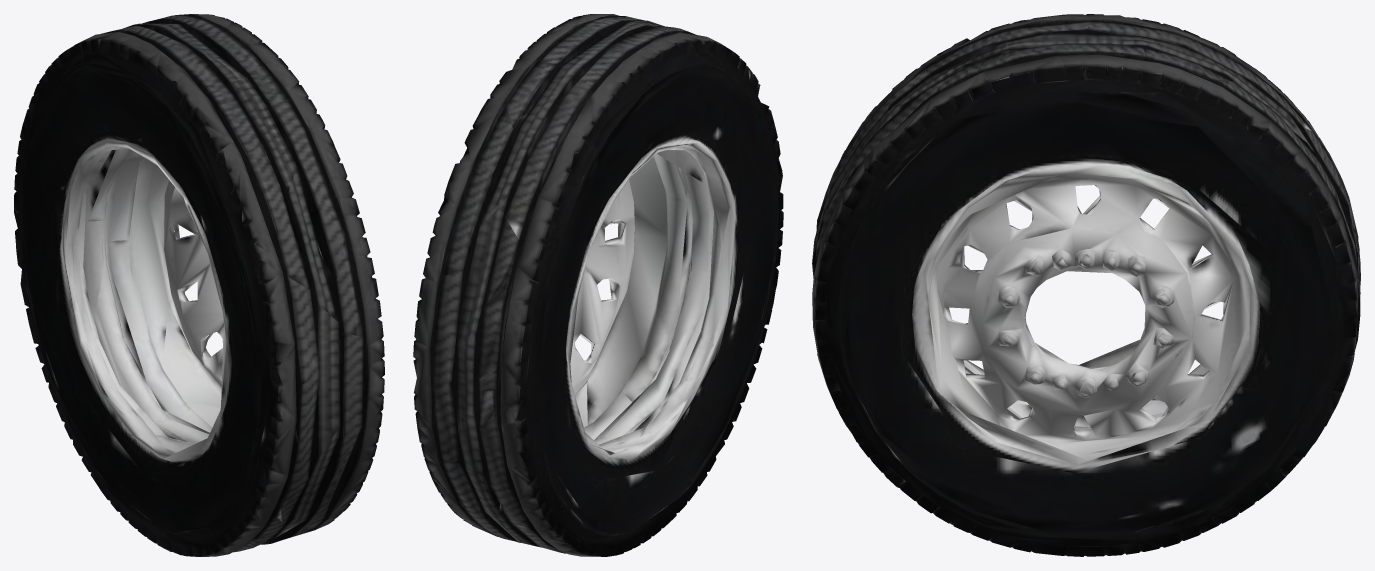
Rendered from wheel.glb.
3 views of the same model, side by side, from view 1: azimuth 30°, elevation 25°; view 2: azimuth 150°, elevation 25°; view 3: azimuth 270°, elevation 25° (orthographic). The views are drawn at different scales.
Visible parts, largest first — view 1: body; view 2: body; view 3: body.
Part boxes in pixels (bbox=[...]): body: bbox=[14, 14, 384, 556]; body: bbox=[413, 14, 783, 556]; body: bbox=[812, 14, 1360, 556].
Size of the model in its own units: 0.318 by 1.05 by 1.05.
Materials: 1 (1 with a texture image).
